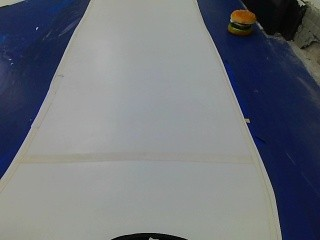burger: (220, 1, 261, 45)
